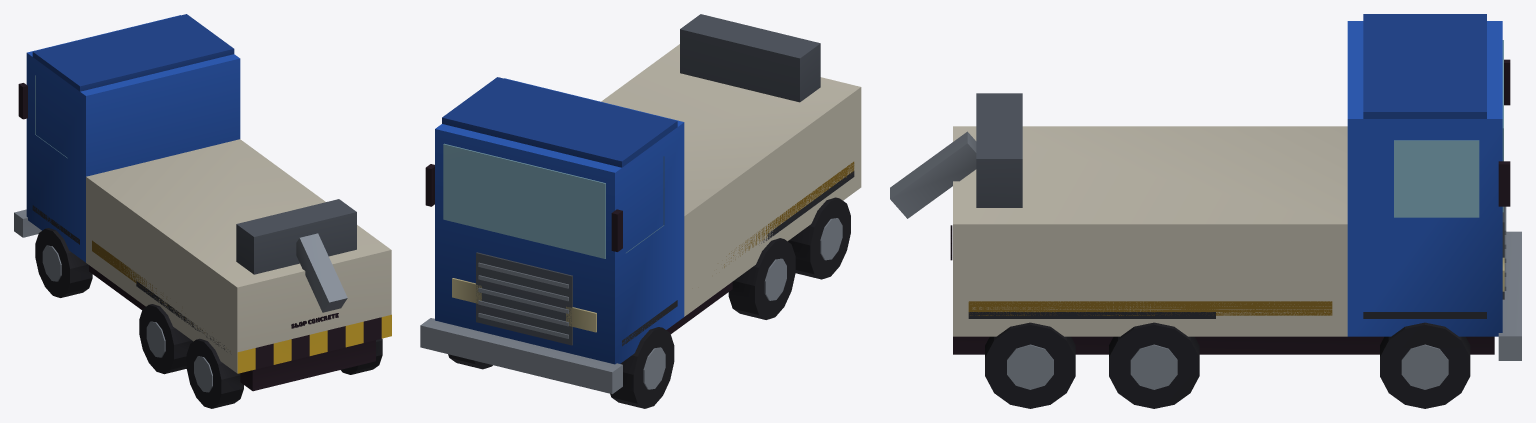
The model's file is y_mixer.glb.
The picture shows the model from 3 angles, left to right: view 1: azimuth 30°, elevation 25°; view 2: azimuth 150°, elevation 25°; view 3: azimuth 270°, elevation 25°; orthographic projection. The views are drawn at different scales.
Parts seen in each view (by area): view 1: y_mixer; view 2: y_mixer; view 3: y_mixer.
Part boxes in pixels (x1=…): y_mixer: x1=14, y1=14, x2=391, y2=408; y_mixer: x1=420, y1=14, x2=861, y2=408; y_mixer: x1=890, y1=14, x2=1521, y2=408.
Size of the model in its own units: 3.2 by 4.2 by 8.16.
